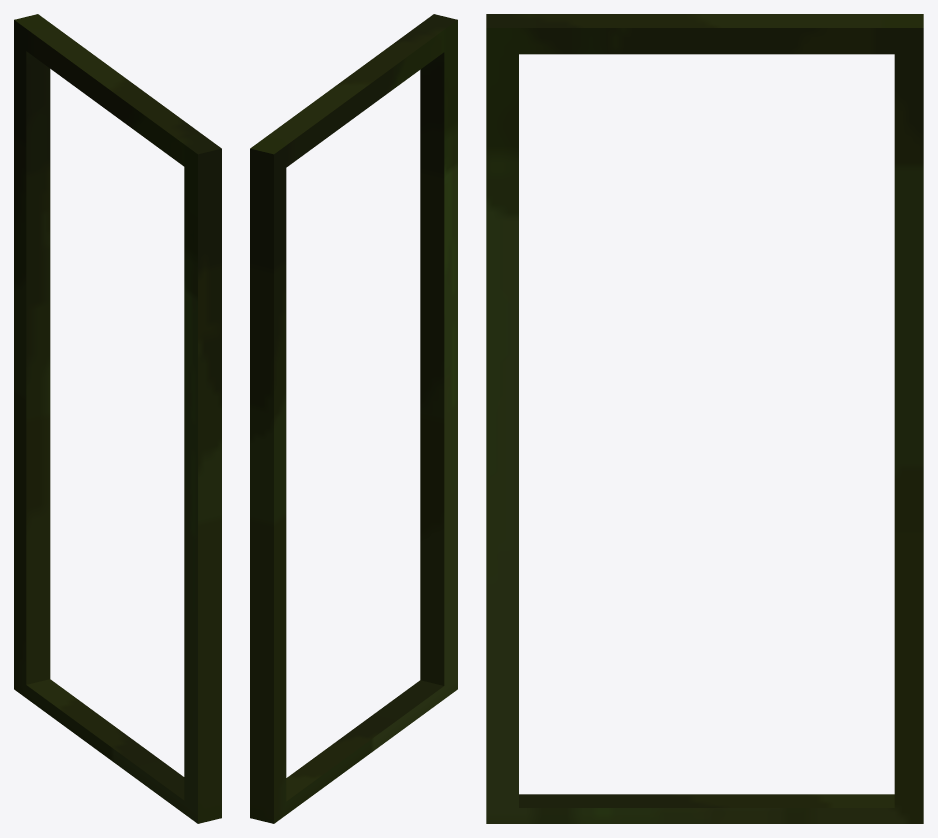
File: SM_subdoorframe.fbx
3 views of the same model, side by side, from view 1: azimuth 30°, elevation 25°; view 2: azimuth 150°, elevation 25°; view 3: azimuth 270°, elevation 25° (orthographic). The views are drawn at different scales.
Visible parts, largest first — view 1: SM_doorframs; view 2: SM_doorframs; view 3: SM_doorframs.
Boxes of the visible parts, bbox=[...] form: SM_doorframs: bbox=[14, 14, 221, 823]; SM_doorframs: bbox=[250, 14, 457, 823]; SM_doorframs: bbox=[486, 14, 923, 823].
Bounding box in the file's own units: 7.95 × 213 × 106.
